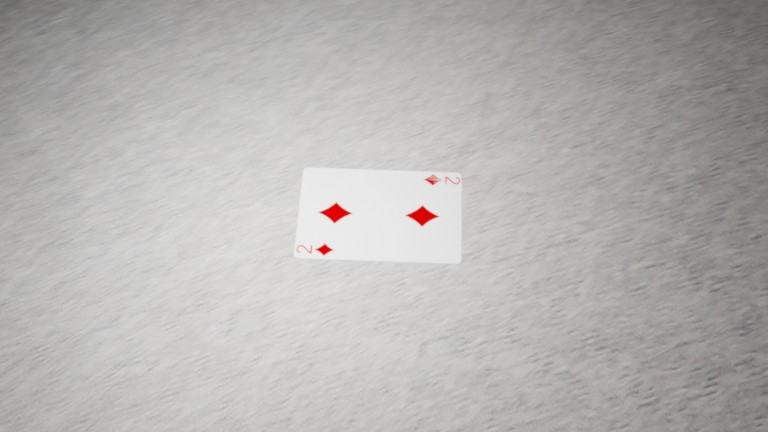2_of_diamonds: (118, 96, 134, 104), (169, 69, 184, 76)
